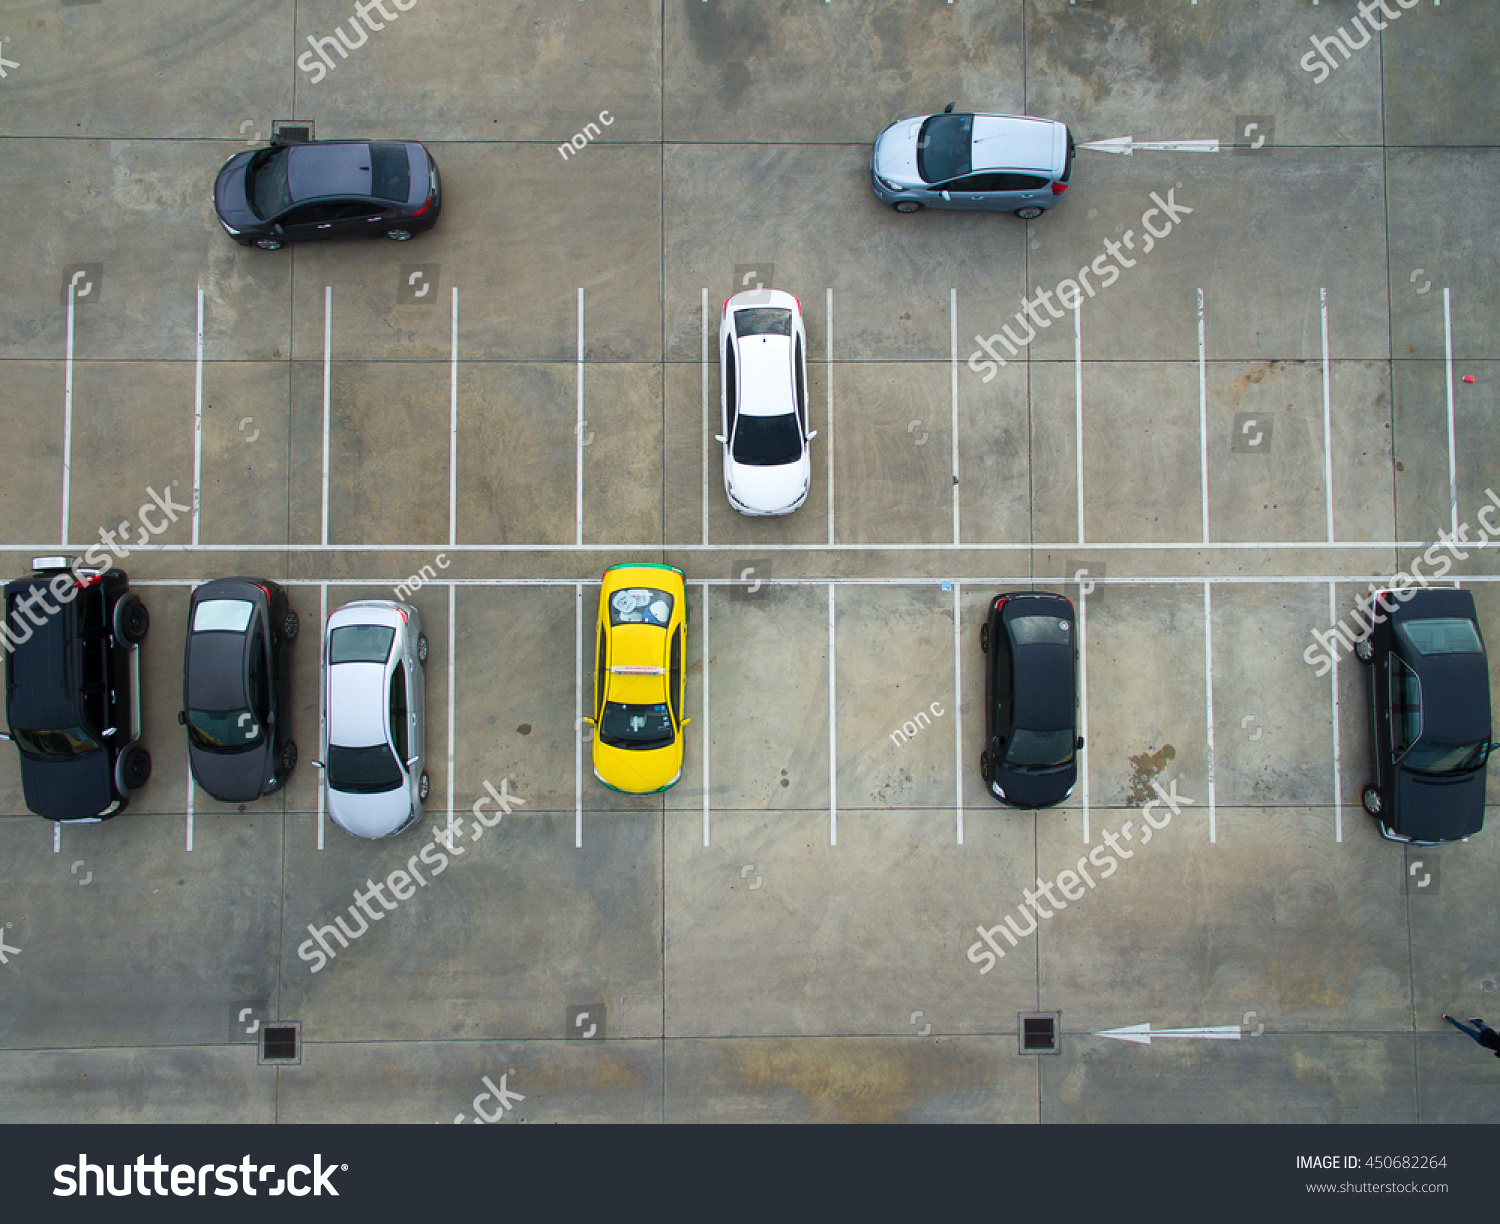Car: (315, 595, 435, 849), (586, 555, 694, 801), (865, 105, 1076, 226), (715, 290, 816, 524)
LaneMark: (1, 540, 1297, 553), (688, 576, 1297, 587), (57, 283, 78, 542), (188, 284, 206, 543), (1195, 287, 1212, 542), (573, 287, 589, 543), (1071, 287, 1088, 543), (321, 284, 335, 542), (277, 576, 597, 586), (949, 288, 962, 541), (316, 583, 326, 851), (576, 582, 586, 849), (446, 583, 457, 819), (449, 284, 458, 543), (703, 585, 711, 845), (826, 285, 833, 542), (957, 582, 963, 844), (831, 585, 837, 843), (700, 287, 706, 543), (1208, 581, 1213, 848), (1083, 586, 1088, 846), (188, 782, 194, 850)
